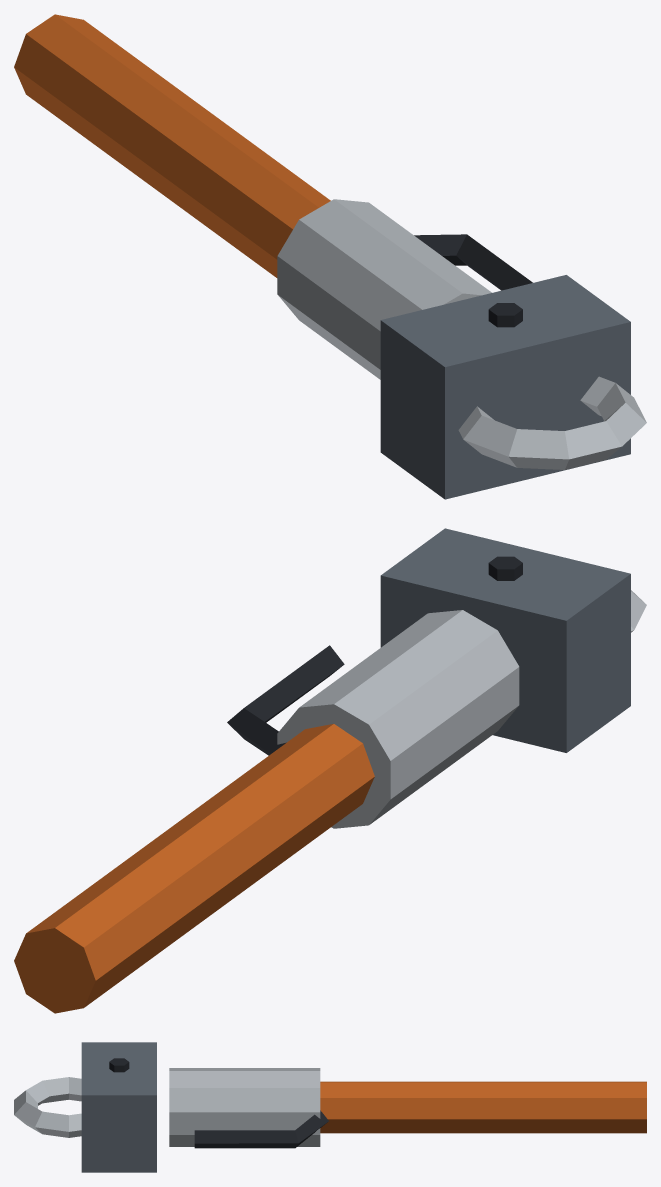
Rendered from hydrospanner.glb.
3 views of the same model, one above another, from view 1: azimuth 30°, elevation 25°; view 2: azimuth 150°, elevation 25°; view 3: azimuth 270°, elevation 25° (orthographic). The views are drawn at different scales.
Visible parts, largest first — view 1: m; view 2: m; view 3: m.
Boxes of the visible parts, x1=… form: m: x1=14, y1=14, x2=646, y2=499; m: x1=14, y1=528, x2=646, y2=1013; m: x1=14, y1=1042, x2=646, y2=1172.
Bounding box in the file's own units: 0.0469 × 0.0318 × 0.2.
